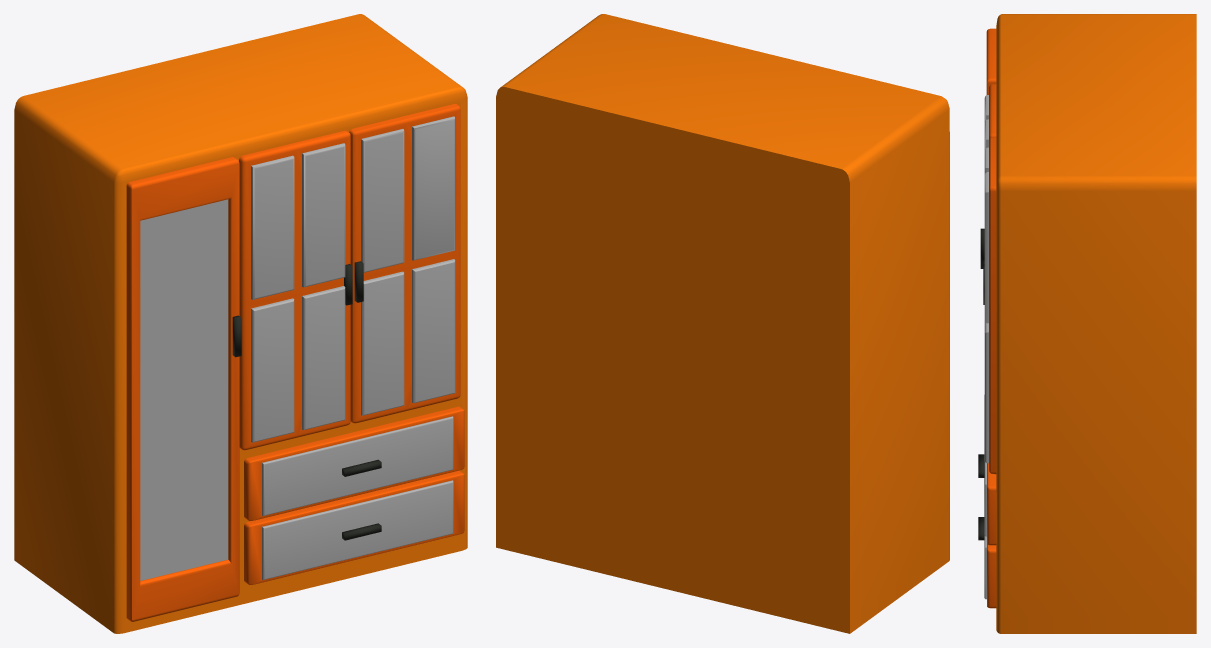
File: wardrobe.fbx
3 views of the same model, side by side, from view 1: azimuth 30°, elevation 25°; view 2: azimuth 150°, elevation 25°; view 3: azimuth 270°, elevation 25° (orthographic).
Visible parts, largest first — view 1: wardrobe; view 2: wardrobe; view 3: wardrobe.
Boxes of the visible parts, <box> form: wardrobe: <box>14,14,467,633</box>; wardrobe: <box>496,14,949,633</box>; wardrobe: <box>978,14,1196,633</box>.
Size of the model in its own units: 183 by 229 by 99.91.
1 material, 1 textured.
